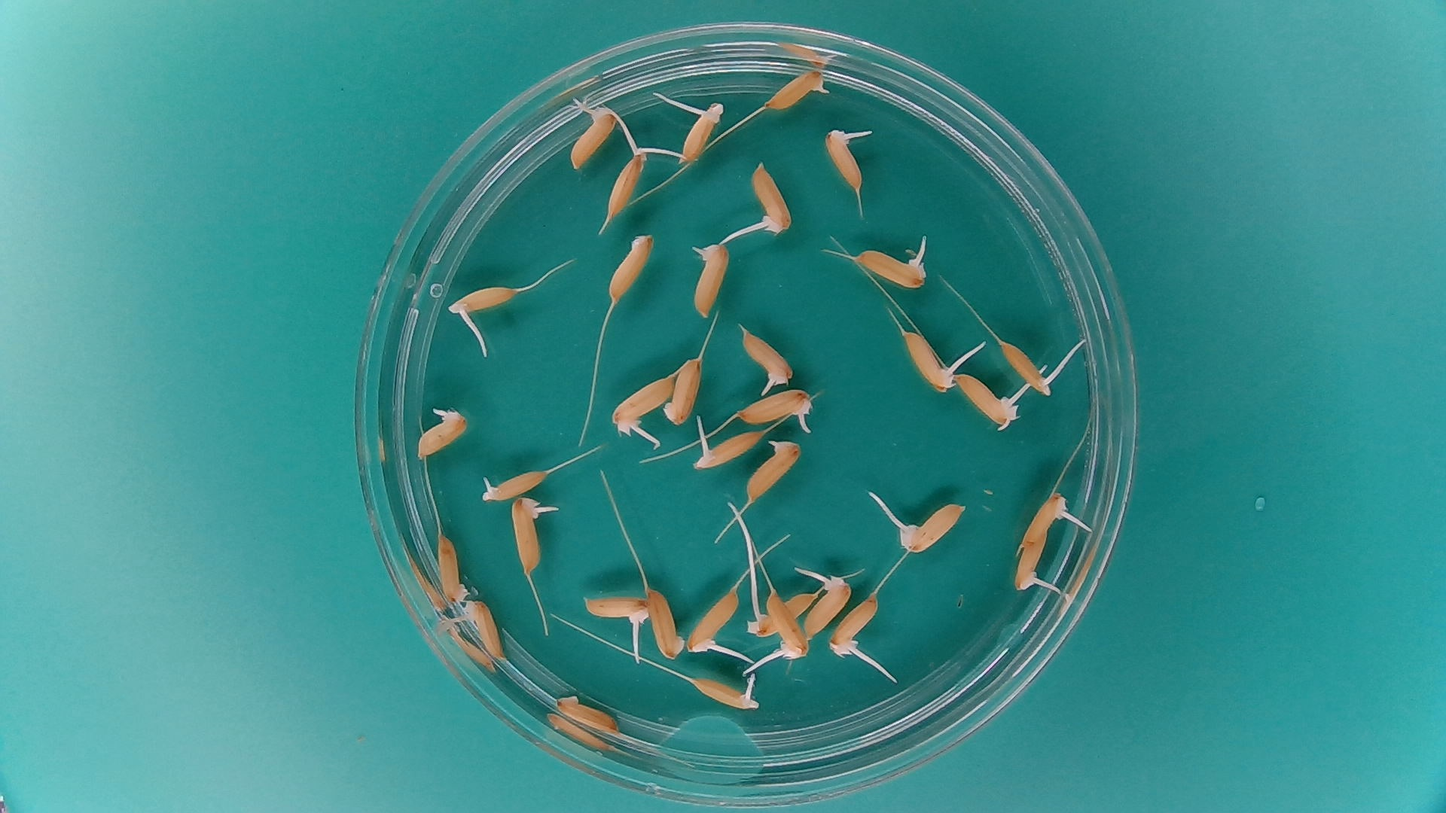no: (606, 232, 655, 308), (550, 691, 624, 738), (661, 353, 704, 429), (647, 585, 686, 661), (436, 531, 470, 604)
yes: (887, 498, 969, 555), (602, 142, 657, 221), (445, 598, 506, 669), (611, 372, 675, 437), (952, 370, 1020, 431), (997, 336, 1059, 400), (900, 329, 961, 394), (688, 585, 742, 656), (745, 437, 803, 503), (821, 122, 872, 196), (738, 326, 796, 391), (749, 586, 817, 641), (688, 236, 731, 320), (568, 104, 620, 173), (745, 160, 792, 236), (761, 588, 810, 659), (804, 569, 853, 638), (829, 592, 880, 657), (735, 388, 816, 428), (676, 103, 726, 166), (414, 404, 471, 459), (853, 249, 929, 290), (690, 429, 764, 471), (763, 66, 830, 111), (511, 493, 547, 575), (1017, 493, 1069, 547), (479, 465, 551, 503), (689, 677, 762, 713), (444, 285, 520, 319), (582, 594, 654, 626), (1012, 534, 1050, 594)
